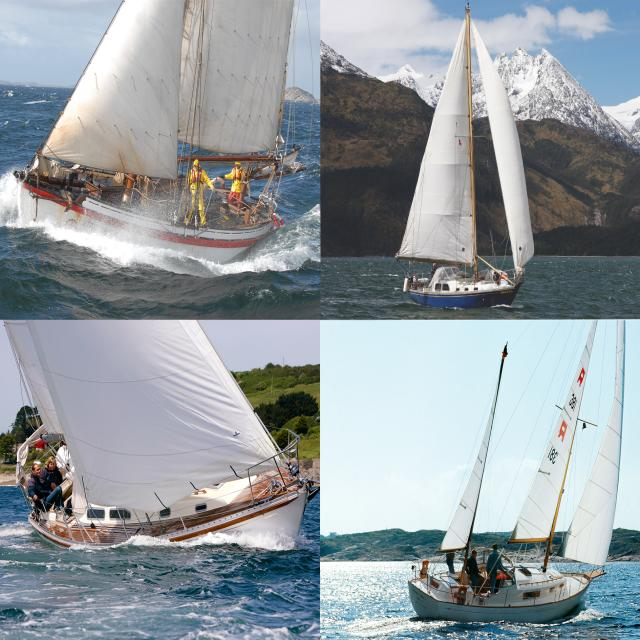boat: (6, 0, 319, 274), (3, 323, 321, 588), (400, 322, 640, 630), (391, 6, 544, 315)
